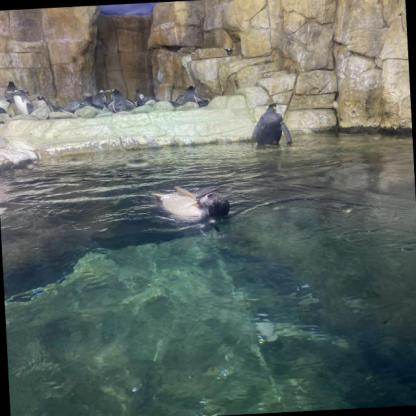penguin: (152, 184, 232, 222), (247, 100, 294, 150), (52, 99, 105, 114), (175, 84, 205, 110), (6, 89, 34, 116), (108, 88, 134, 112), (92, 89, 111, 111), (4, 81, 19, 102), (0, 98, 15, 118), (34, 96, 51, 113), (137, 96, 159, 105), (134, 90, 145, 102), (17, 90, 31, 98), (0, 106, 7, 115)
